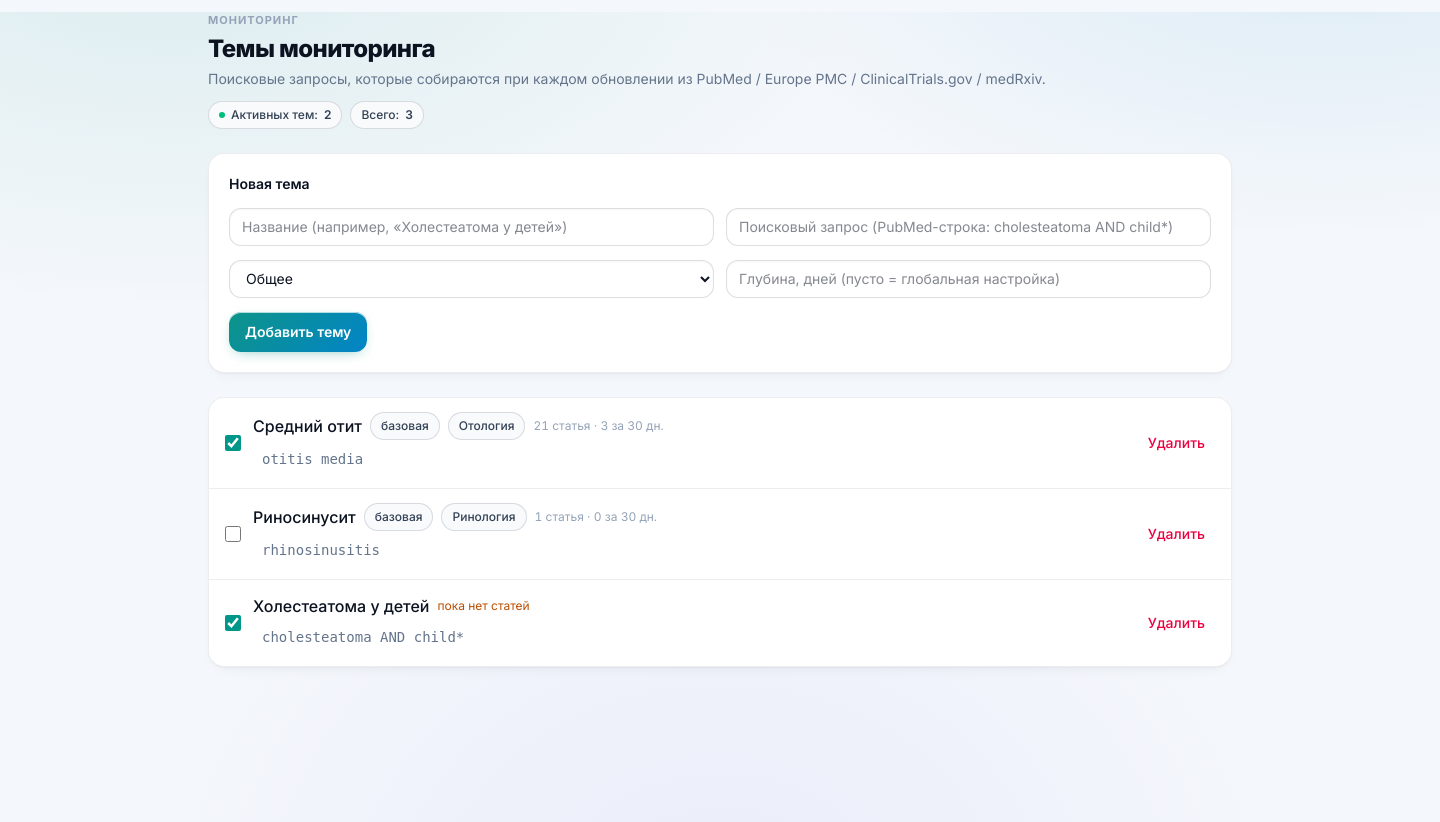
Scenario: /topics (управление темами) › новая тема: валидация пустых полей, затем POST с обрезанными полями и глубиной; форма очищается, список перечитывается
Expected: the text "Средний отит" is shown, x1=253 y1=414 x2=362 y2=438
Click the button "Добавить тему": (298, 332) x1=229 y1=312 x2=367 y2=352
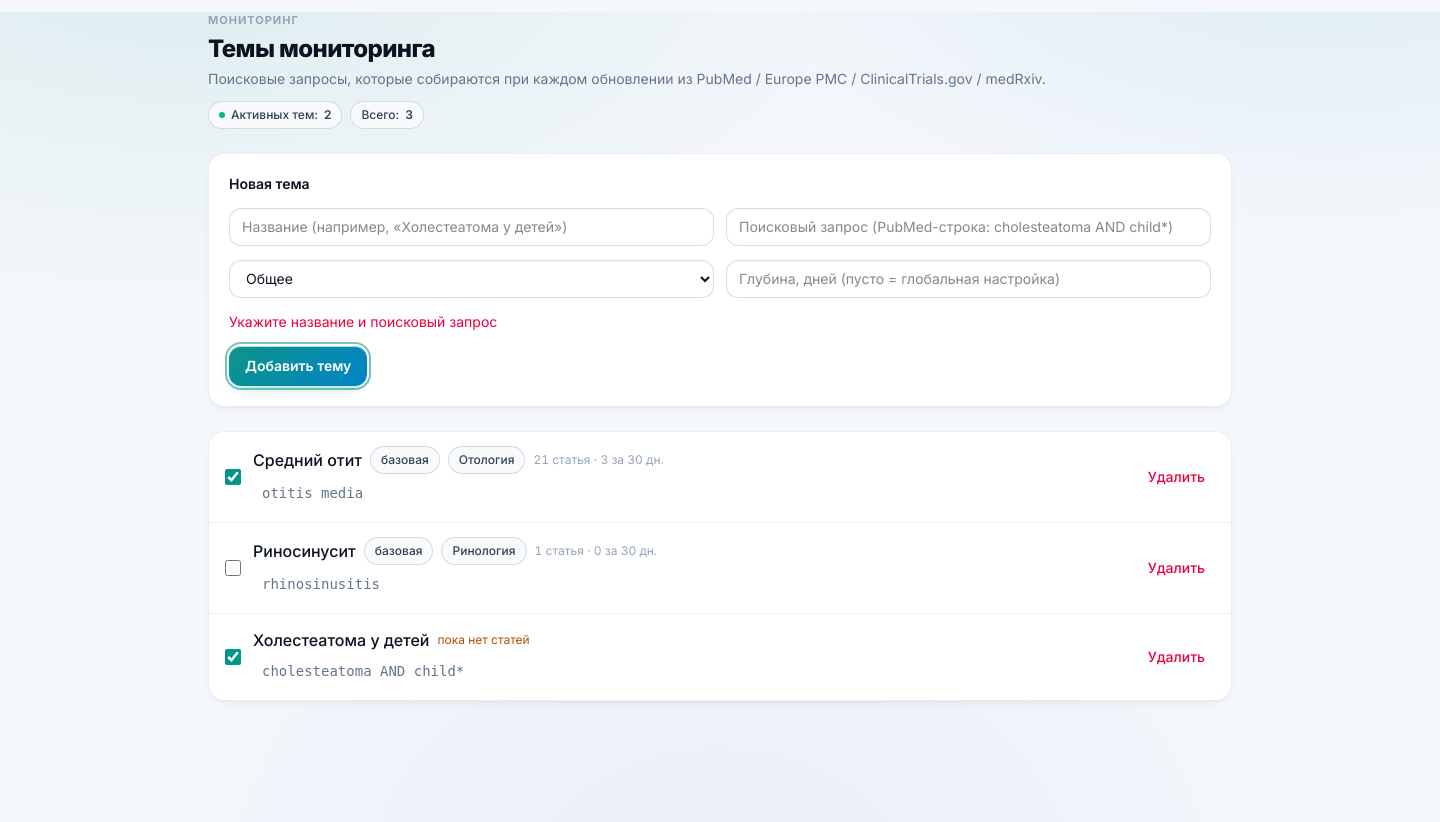
Expected: the message reads "Укажите название и поисковый запрос", x1=229 y1=312 x2=497 y2=330
In the field named "Название темы": (472, 226) x1=229 y1=208 x2=714 y2=246, type "  Тиннитус  "
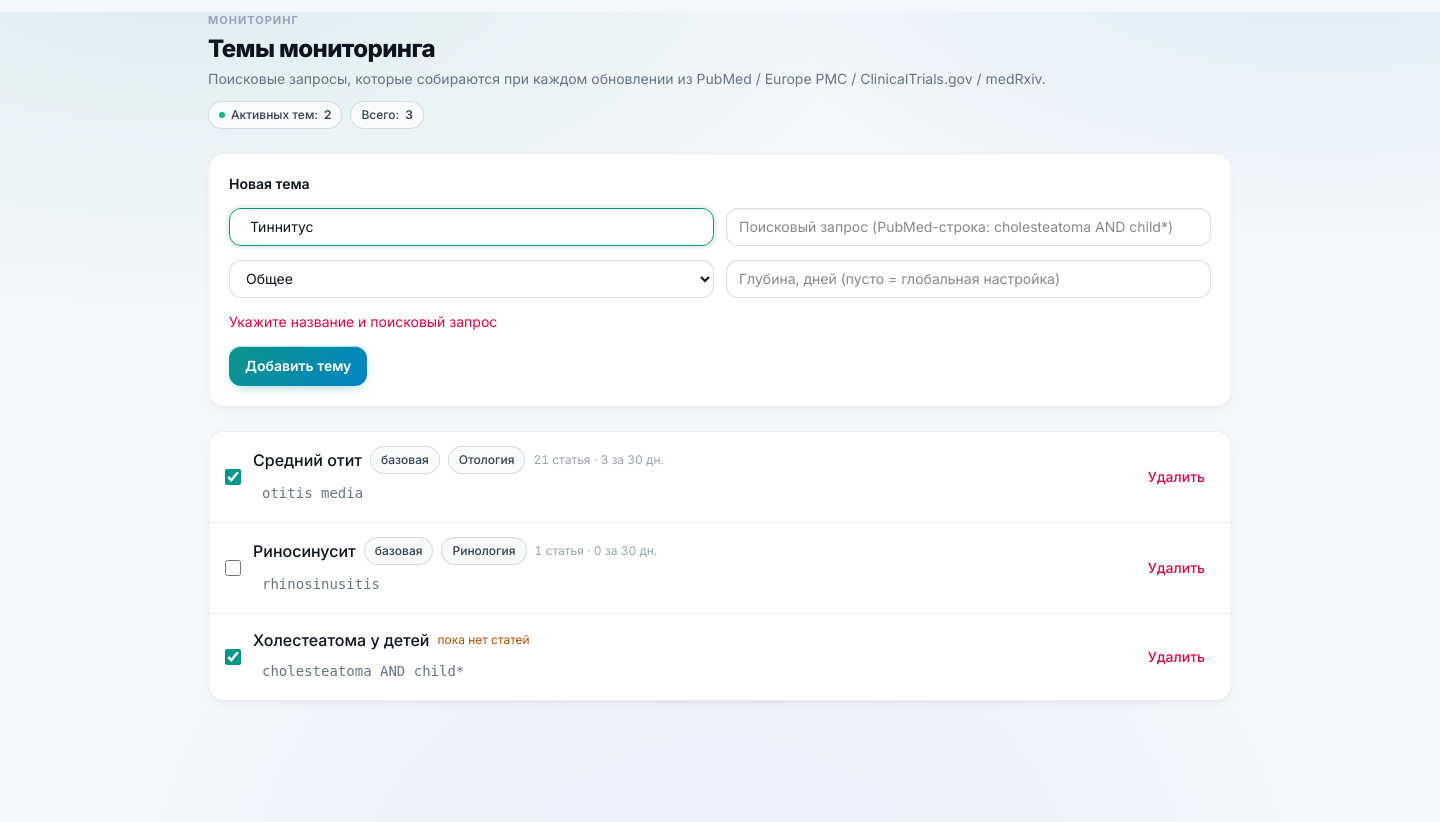
In the field named "Поисковый запрос темы": (968, 226) x1=726 y1=208 x2=1211 y2=246, type "tinnitus AND therapy "
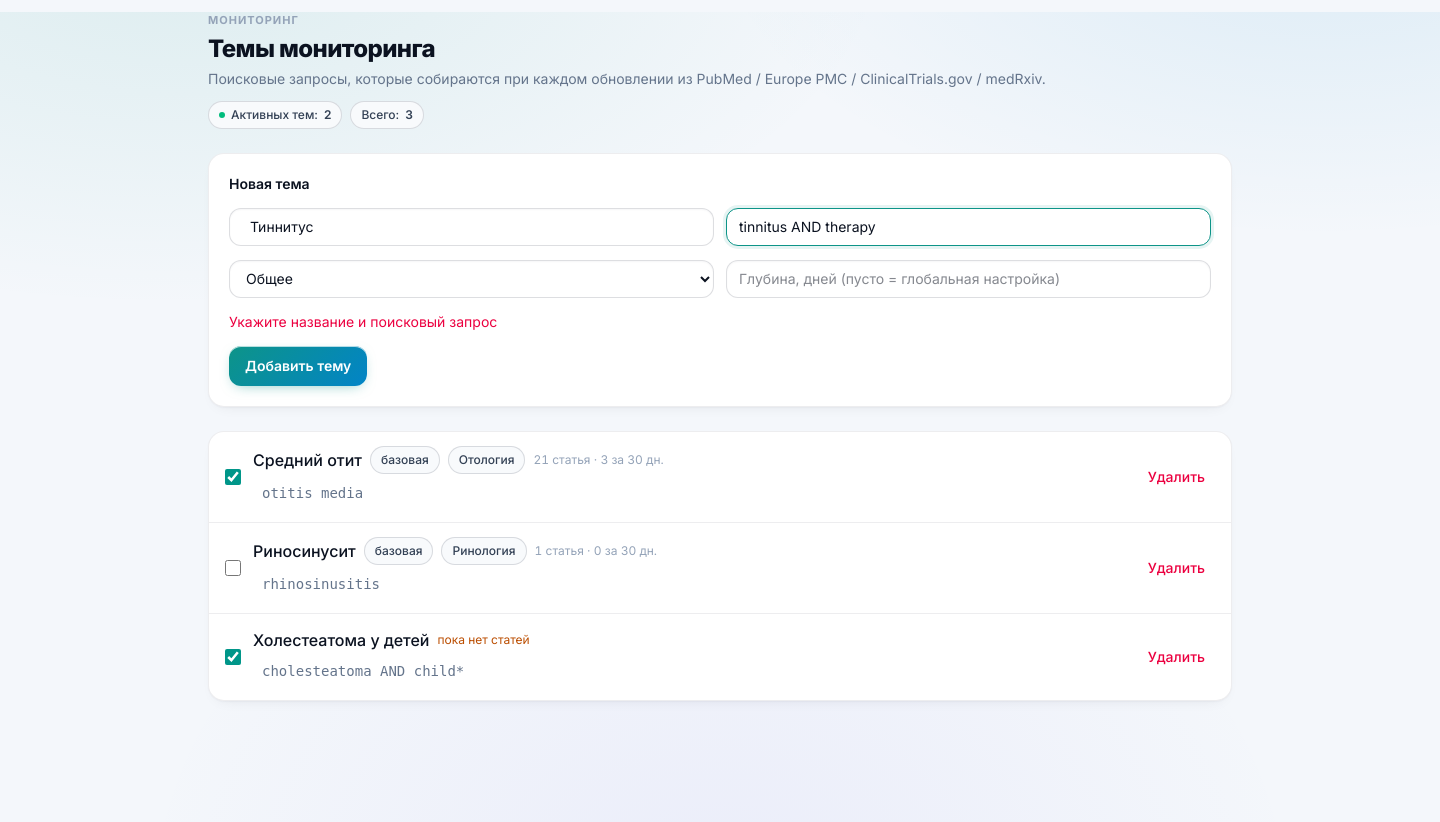
Select "Отология" in the dropdown named "Субспециальность темы": (472, 278) x1=229 y1=260 x2=714 y2=298
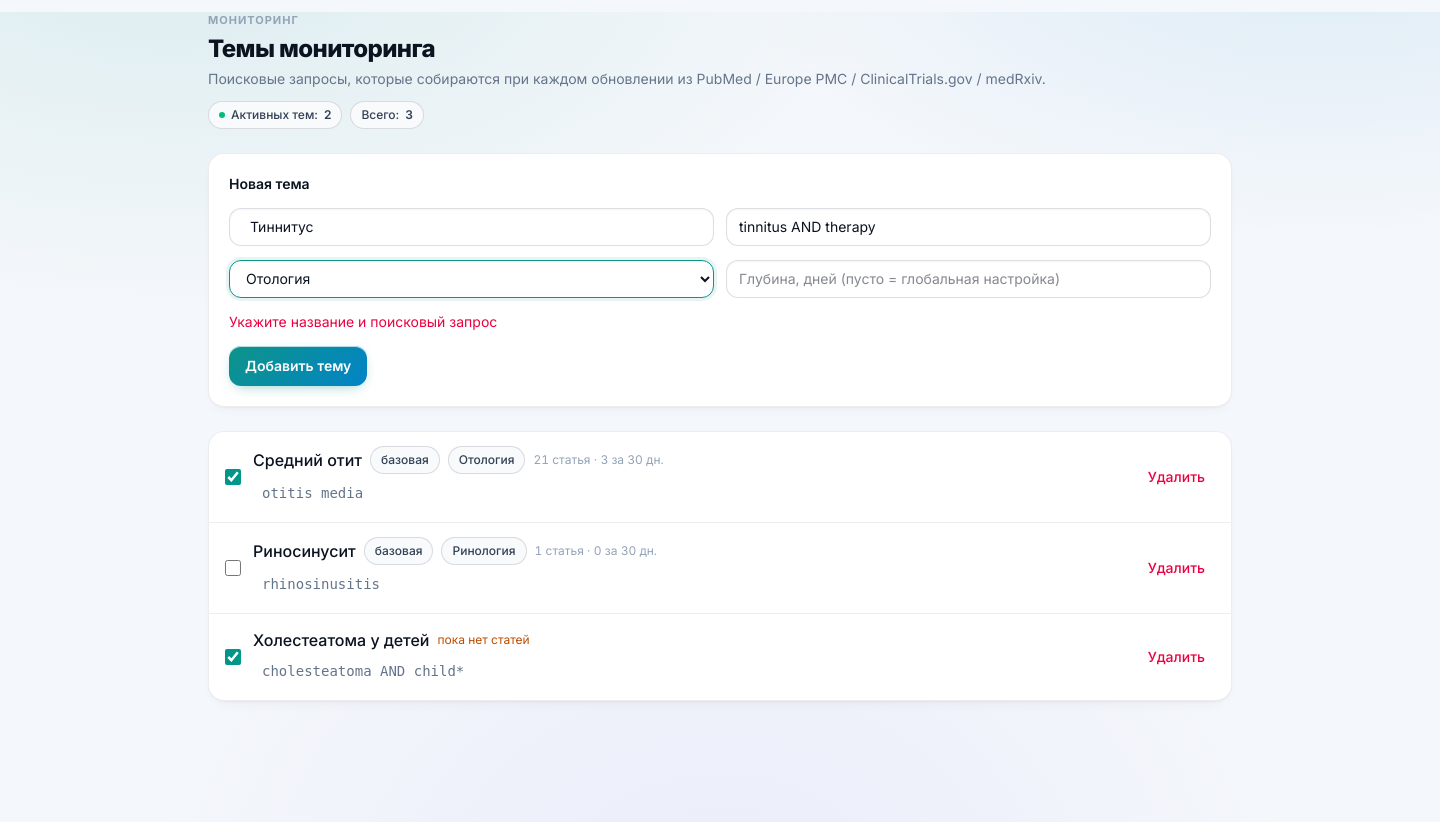
In the number field named "Глубина поиска темы, дней": (968, 278) x1=726 y1=260 x2=1211 y2=298, type "120"
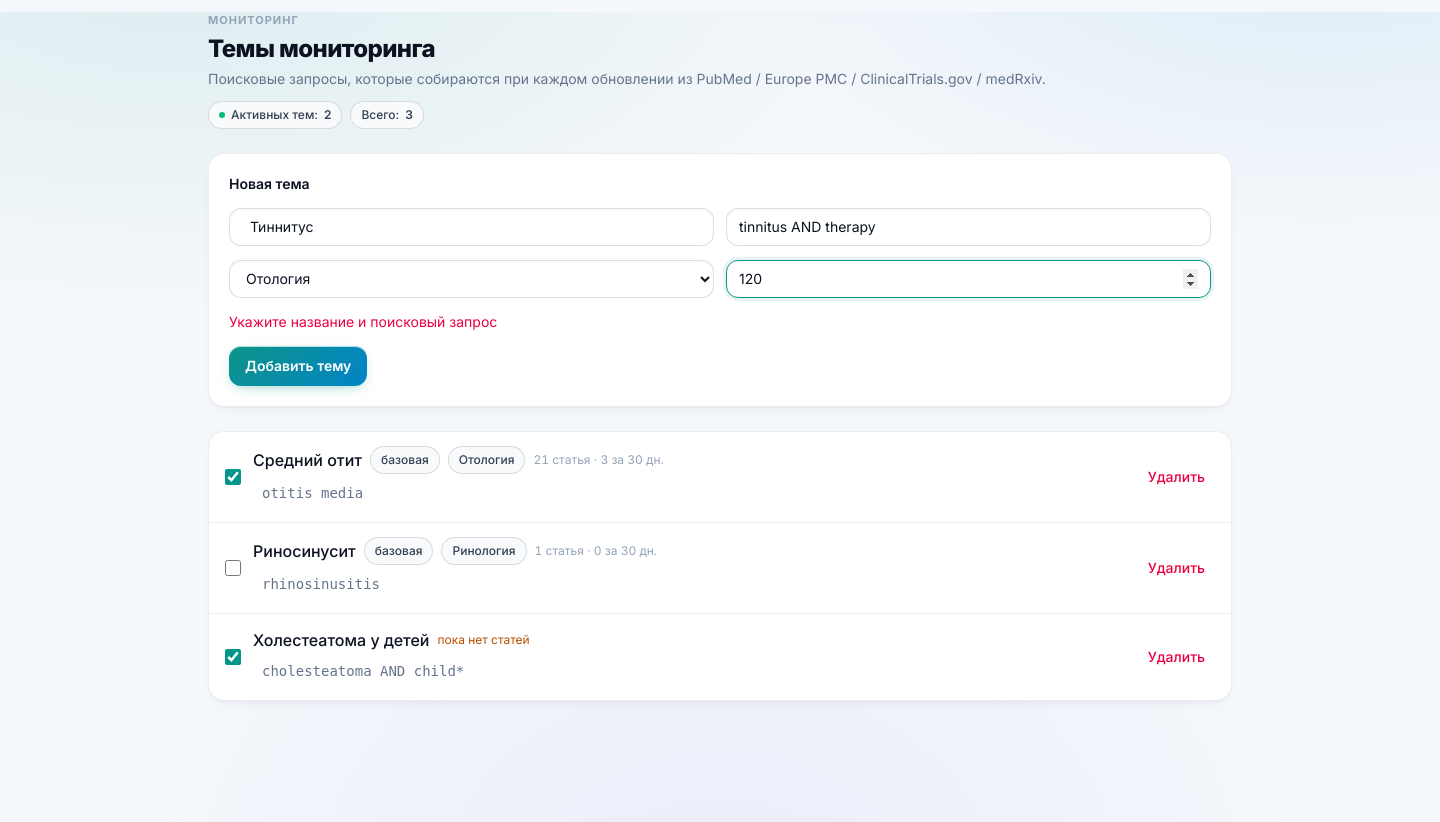
Click the button "Добавить тему": (298, 366) x1=229 y1=346 x2=367 y2=386
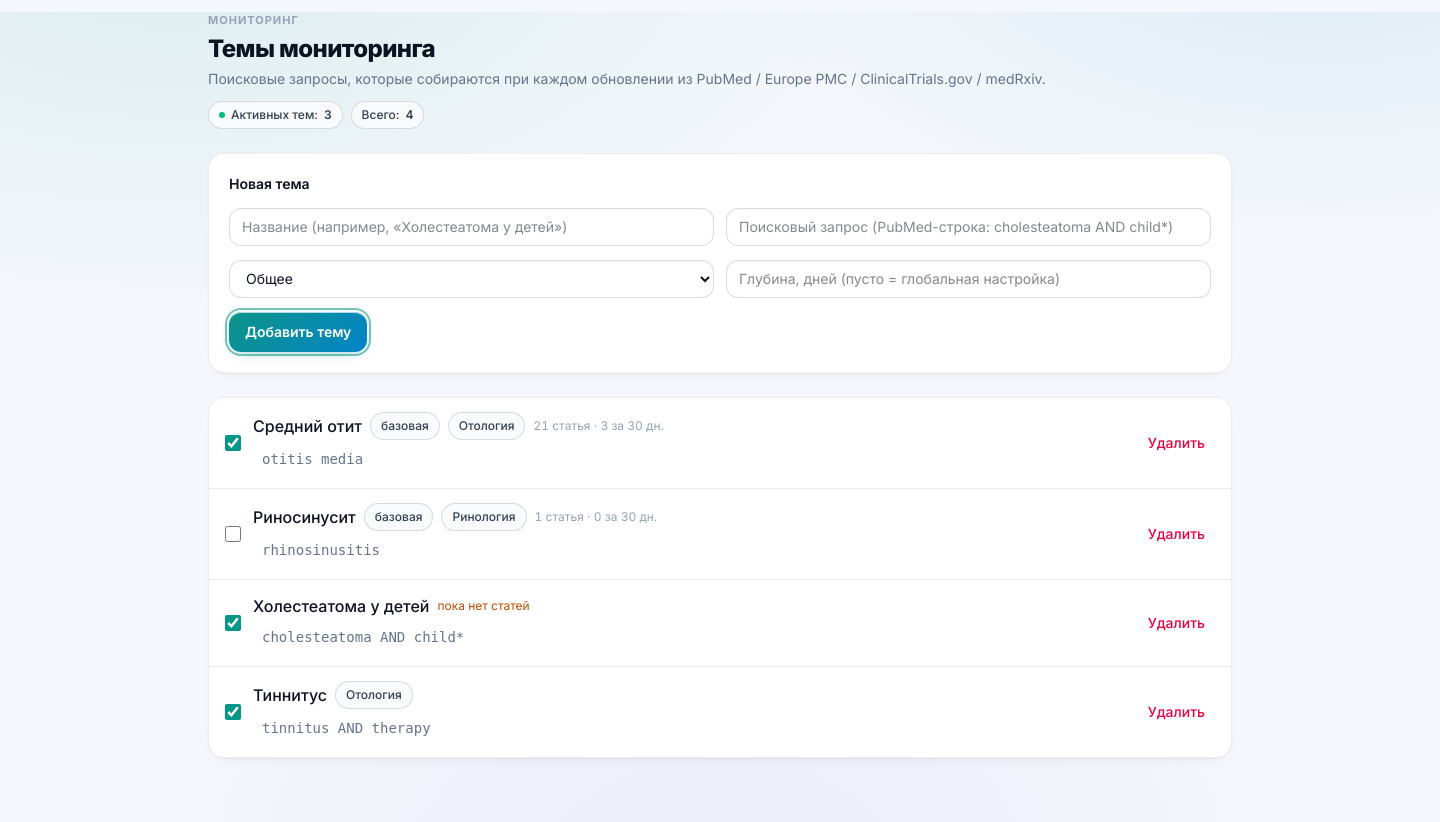
Expected: the text "Тиннитус" is shown, x1=253 y1=682 x2=327 y2=706
Expected: the field named "Название темы" is empty, x1=229 y1=208 x2=714 y2=246
Expected: the message "Укажите название и поисковый запрос" is gone
